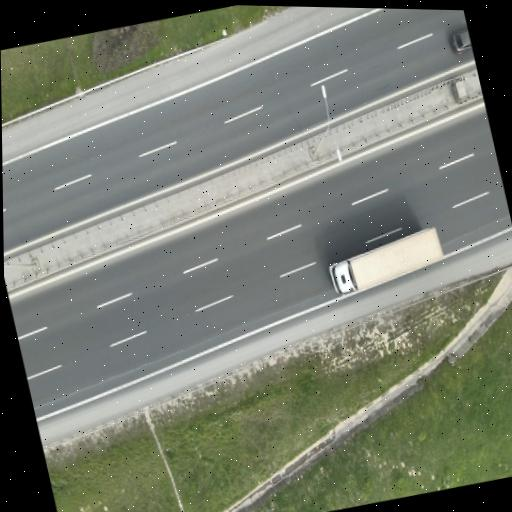car: (451, 28, 471, 52)
truck: (330, 228, 443, 294)
